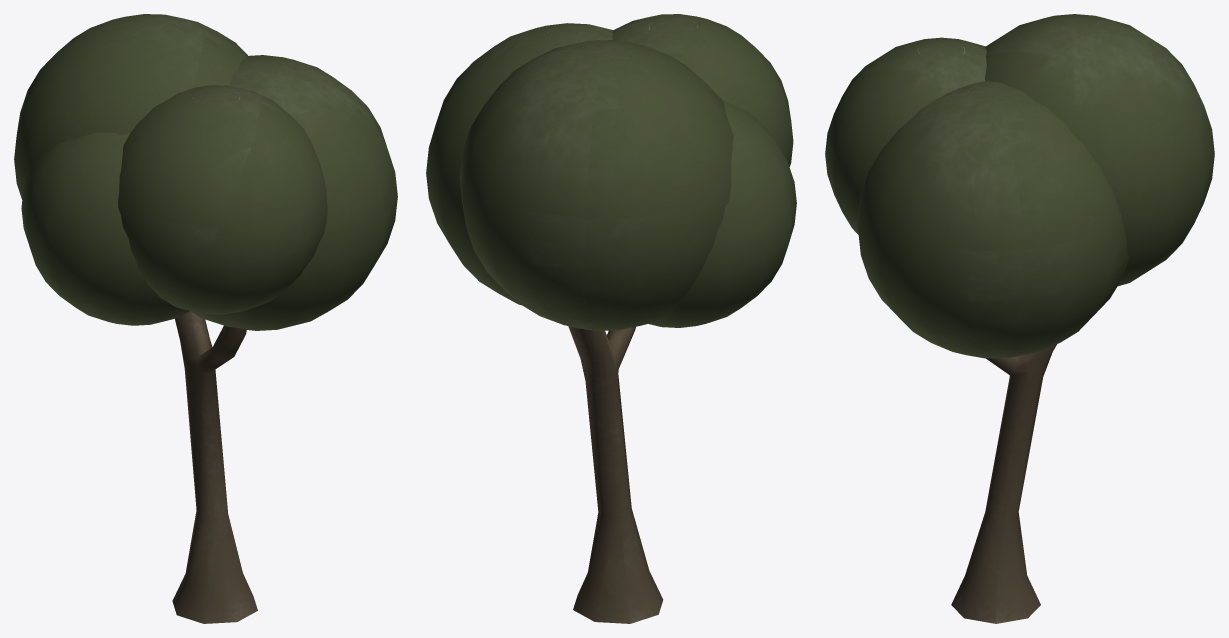
The model's file is Arbol_02.fbx.
3 renders of one model, left to right at view 1: azimuth 30°, elevation 25°; view 2: azimuth 150°, elevation 25°; view 3: azimuth 270°, elevation 25°, orthographic. The views are drawn at different scales.
Parts seen in each view (by area): view 1: Cylinder.002; view 2: Cylinder.002; view 3: Cylinder.002.
Boxes of the visible parts, x1,y1,x2,y2 form: Cylinder.002: [14, 14, 397, 623]; Cylinder.002: [426, 14, 796, 623]; Cylinder.002: [825, 14, 1214, 623].
Bounding box in the file's own units: 948 × 1546 × 966.
1 material, 1 textured.
